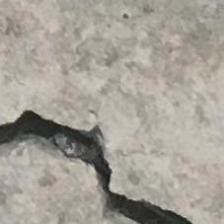Crack: (0, 94, 224, 224)
